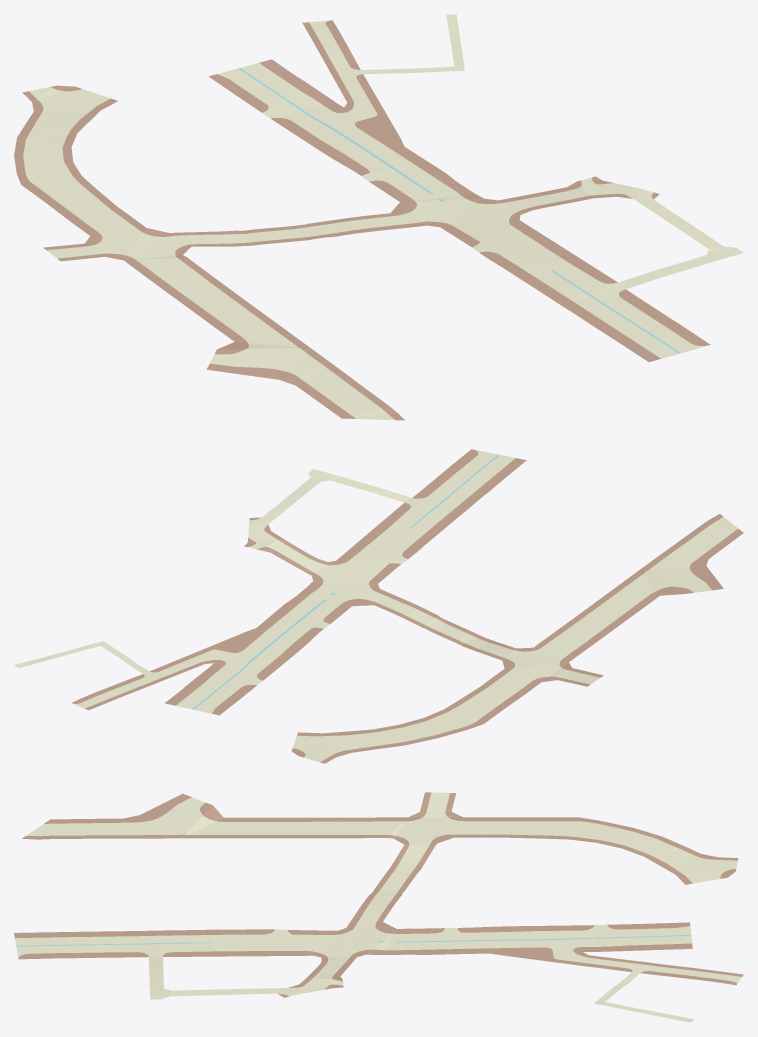
The model's file is data66.glb.
3 renders of one model, top to bottom at view 1: azimuth 30°, elevation 25°; view 2: azimuth 150°, elevation 25°; view 3: azimuth 270°, elevation 25°, orthographic. The views are drawn at different scales.
Size of the model in its own units: 257 by 6.11 by 351.
